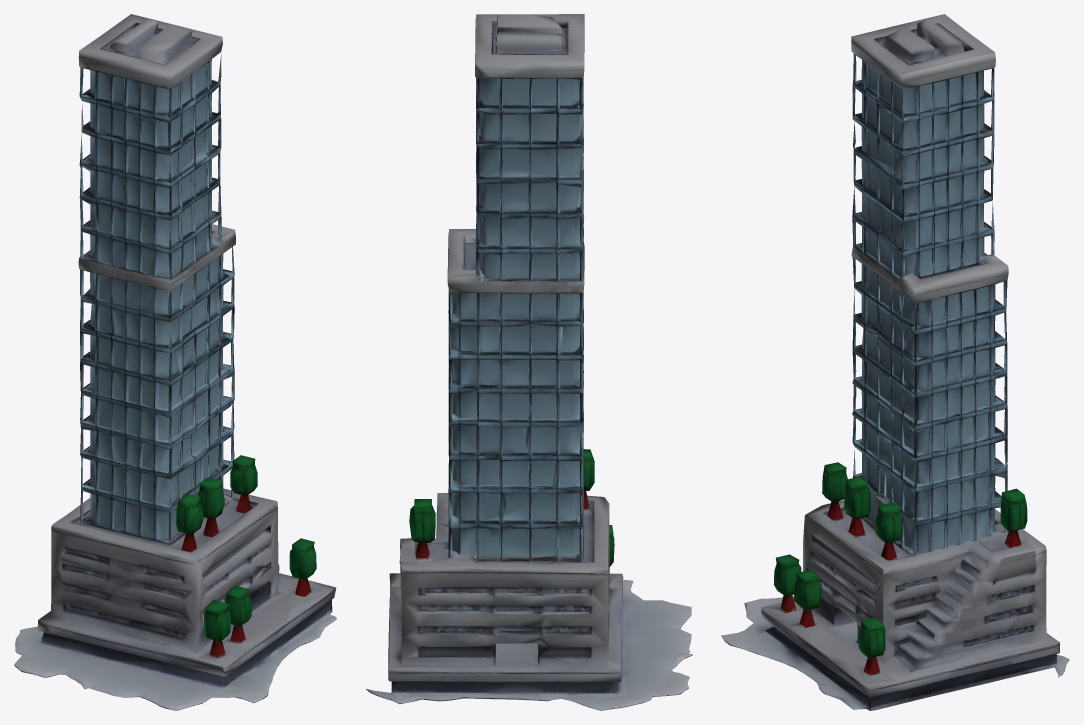
The model's file is onefukuoka.glb.
The picture shows the model from 3 angles, left to right: view 1: azimuth 30°, elevation 25°; view 2: azimuth 150°, elevation 25°; view 3: azimuth 270°, elevation 25°; orthographic projection. The views are drawn at different scales.
Visible parts, largest first — view 1: tripo_node_025d824e-34d2-418d-988f-b8360b3f548d; view 2: tripo_node_025d824e-34d2-418d-988f-b8360b3f548d; view 3: tripo_node_025d824e-34d2-418d-988f-b8360b3f548d.
Part boxes in pixels (bbox=[...]): tripo_node_025d824e-34d2-418d-988f-b8360b3f548d: bbox=[14, 14, 336, 710]; tripo_node_025d824e-34d2-418d-988f-b8360b3f548d: bbox=[366, 14, 692, 710]; tripo_node_025d824e-34d2-418d-988f-b8360b3f548d: bbox=[721, 14, 1069, 710].
Size of the model in its own units: 0.5229 by 1 by 0.5257.
Materials: 1 (1 with a texture image).
